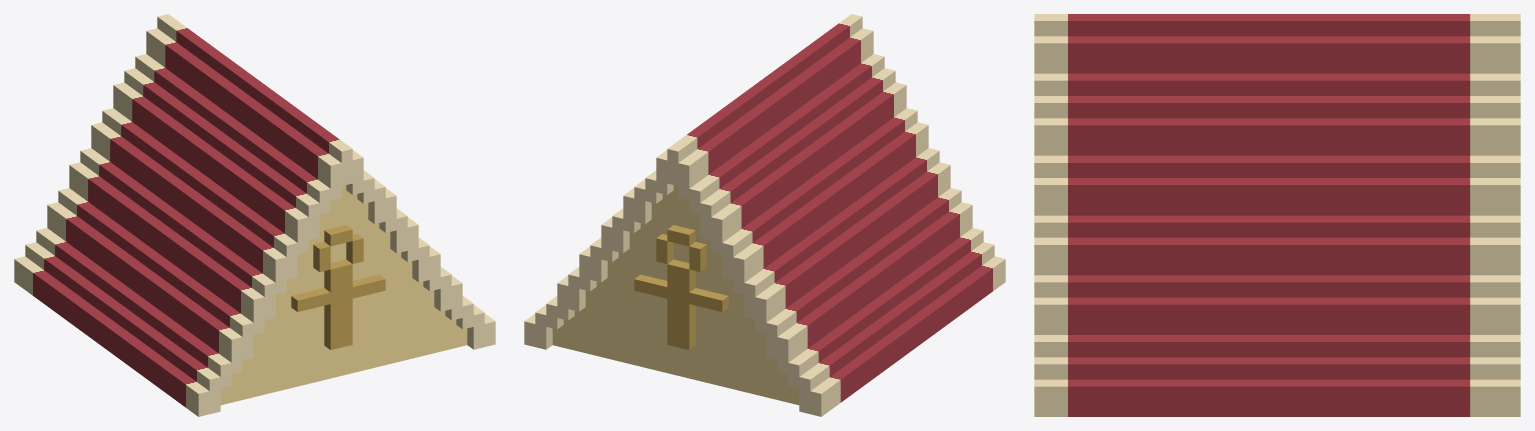
The model's file is eighteenthModelRoof.fbx.
The picture shows the model from 3 angles, left to right: view 1: azimuth 30°, elevation 25°; view 2: azimuth 150°, elevation 25°; view 3: azimuth 270°, elevation 25°; orthographic projection. The views are drawn at different scales.
Parts seen in each view (by area): view 1: Box; view 2: Box; view 3: Box.
Boxes of the visible parts, <box> form: Box: <box>14,14,495,416</box>; Box: <box>524,14,1005,416</box>; Box: <box>1034,14,1520,416</box>.
Bounding box in the file's own units: 27 × 20 × 29.
Materials: 1 (1 with a texture image).
